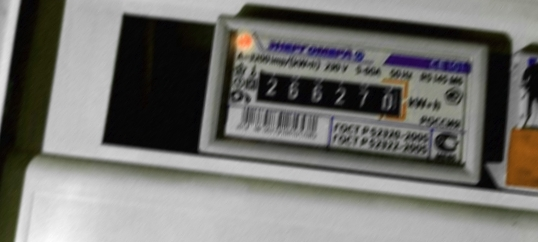0: (380, 89, 393, 110)
2: (264, 74, 280, 96), (333, 84, 347, 105)
6: (286, 78, 301, 100), (310, 81, 324, 101)
7: (356, 86, 370, 107)
screen: (242, 55, 420, 130)
